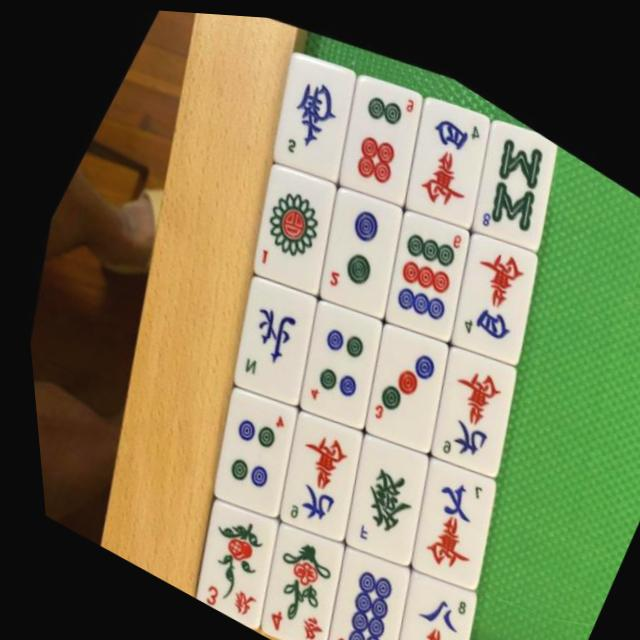bs3: (155, 482, 296, 631)
bs4: (221, 506, 360, 640)
hdg: (304, 411, 449, 569)
hwn: (188, 254, 337, 415)
hws: (224, 21, 384, 190)
sb8: (432, 91, 582, 252)
sc4: (403, 198, 565, 369), (367, 68, 513, 226)
sc7: (364, 429, 520, 595)
sc8: (346, 542, 497, 640)
sc9: (232, 386, 392, 556), (389, 318, 541, 480)
sd1: (203, 135, 362, 303)
sd2: (272, 157, 428, 322)
sd3: (322, 295, 469, 449)
sd4: (172, 366, 318, 523), (260, 281, 399, 431)
sd6: (300, 50, 445, 207)
sd8: (274, 515, 435, 640)
sd9: (340, 182, 493, 346)
